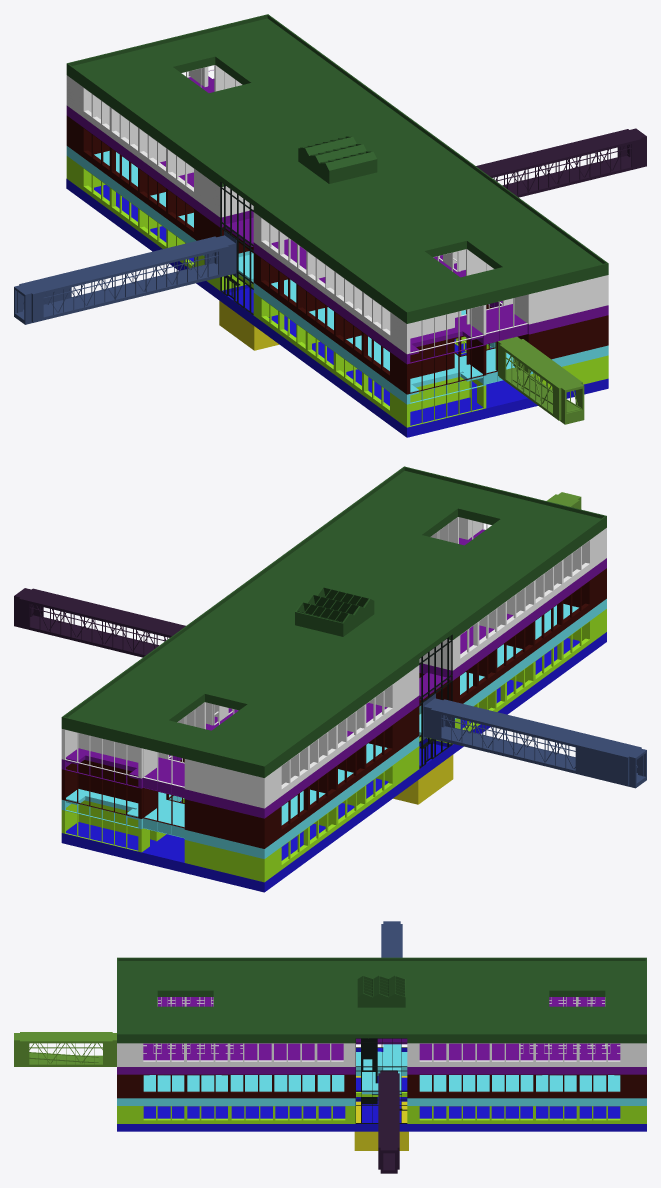
File: tec_00.fbx
3 renders of one model, top to bottom at view 1: azimuth 30°, elevation 25°; view 2: azimuth 150°, elevation 25°; view 3: azimuth 270°, elevation 25°, orthographic. The views are drawn at different scales.
Visible parts, largest first — view 1: divr, F2_Wall, F1_Wall, F0_div, Tunnel_Main, F0_Wall, F2_div, F1_div, Tunnel_Cheese, Tunnel_Dev, Entrance; view 2: divr, F2_Wall, F1_Wall, F0_div, F0_Wall, Tunnel_Main, F1_div, F2_div, Tunnel_Cheese, Entrance; view 3: divr, F2_div, F1_div, F0_div, F2_Wall, F1_Wall, F0_Wall, Tunnel_Dev, Tunnel_Cheese, Entrance, Tunnel_Main.
Boxes of the visible parts, x1=… form: divr: x1=66, y1=14, x2=608, y2=323; F2_Wall: x1=66, y1=65, x2=608, y2=354; F1_Wall: x1=66, y1=115, x2=608, y2=394; F0_div: x1=66, y1=178, x2=608, y2=437; Tunnel_Main: x1=14, y1=231, x2=236, y2=324; F0_Wall: x1=66, y1=156, x2=608, y2=427; F2_div: x1=66, y1=70, x2=608, y2=364; F1_div: x1=66, y1=146, x2=608, y2=404; Tunnel_Cheese: x1=476, y1=128, x2=646, y2=197; Tunnel_Dev: x1=495, y1=337, x2=584, y2=424; Entrance: x1=220, y1=181, x2=253, y2=314; divr: x1=61, y1=466, x2=606, y2=777; F2_Wall: x1=61, y1=517, x2=606, y2=808; F1_Wall: x1=61, y1=568, x2=606, y2=848; F0_div: x1=61, y1=632, x2=606, y2=892; F0_Wall: x1=61, y1=609, x2=606, y2=882; Tunnel_Main: x1=423, y1=693, x2=646, y2=788; F1_div: x1=61, y1=599, x2=606, y2=858; F2_div: x1=61, y1=529, x2=606, y2=818; Tunnel_Cheese: x1=14, y1=588, x2=185, y2=657; Entrance: x1=419, y1=634, x2=452, y2=768; divr: x1=117, y1=957, x2=646, y2=1043; F2_div: x1=117, y1=997, x2=646, y2=1074; F1_div: x1=117, y1=1044, x2=646, y2=1105; F0_div: x1=117, y1=1048, x2=646, y2=1150; F2_Wall: x1=117, y1=997, x2=646, y2=1066; F1_Wall: x1=117, y1=1074, x2=646, y2=1098; F0_Wall: x1=117, y1=1092, x2=646, y2=1123; Tunnel_Dev: x1=14, y1=1032, x2=116, y2=1066; Tunnel_Cheese: x1=378, y1=1070, x2=399, y2=1173; Entrance: x1=355, y1=1038, x2=407, y2=1123; Tunnel_Main: x1=381, y1=921, x2=402, y2=957.
Bounding box in the file's own units: 97.62 × 24.77 × 111.
